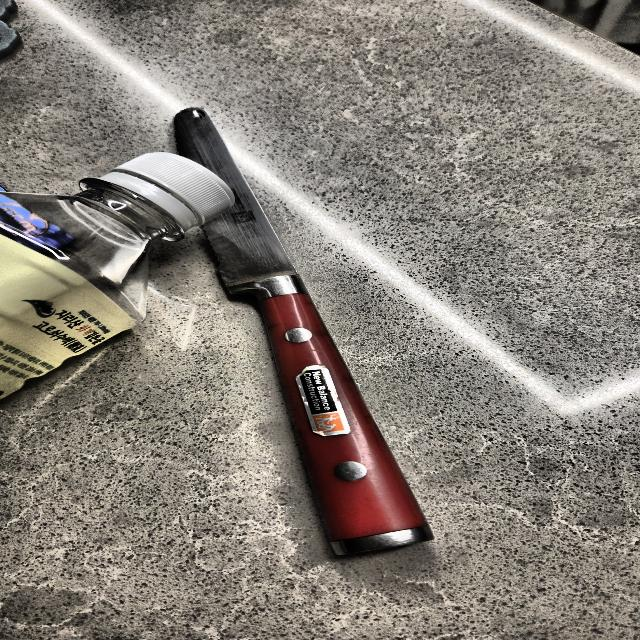knife: (170, 106, 434, 564)
